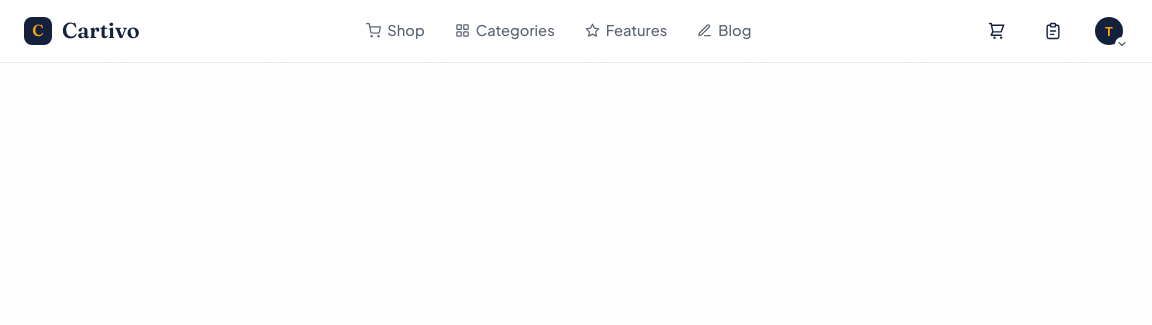
Test: Nav — account menu › shows displayName if user has one
Click the button named "Account menu" at (1109, 31), box [1090,12,1128,50]
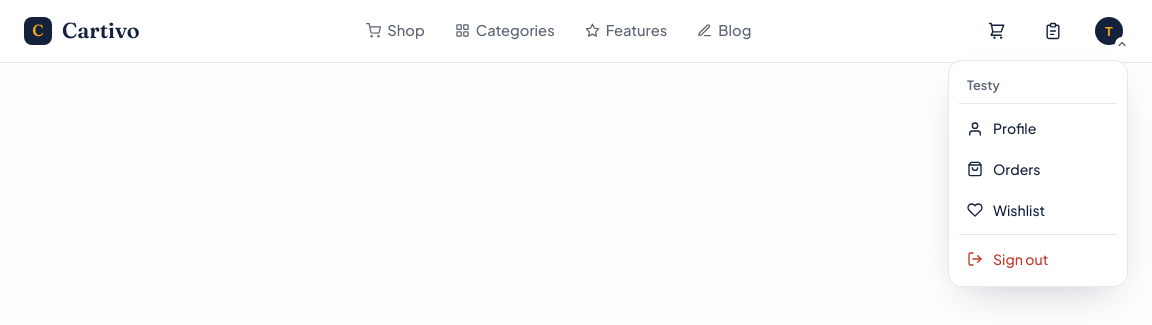
Check: the text "T" is shown, box [1095,17,1123,45]
Check: the text "Testy" is shown, box [967,77,1000,93]
